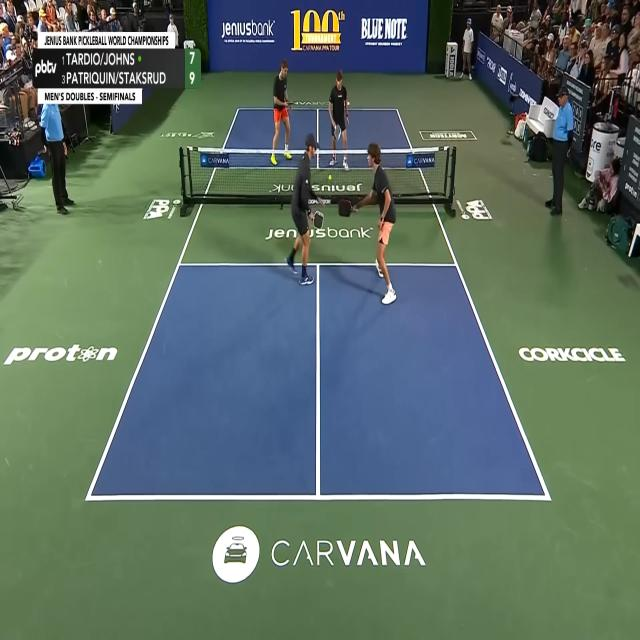ball: (328, 174, 332, 180)
